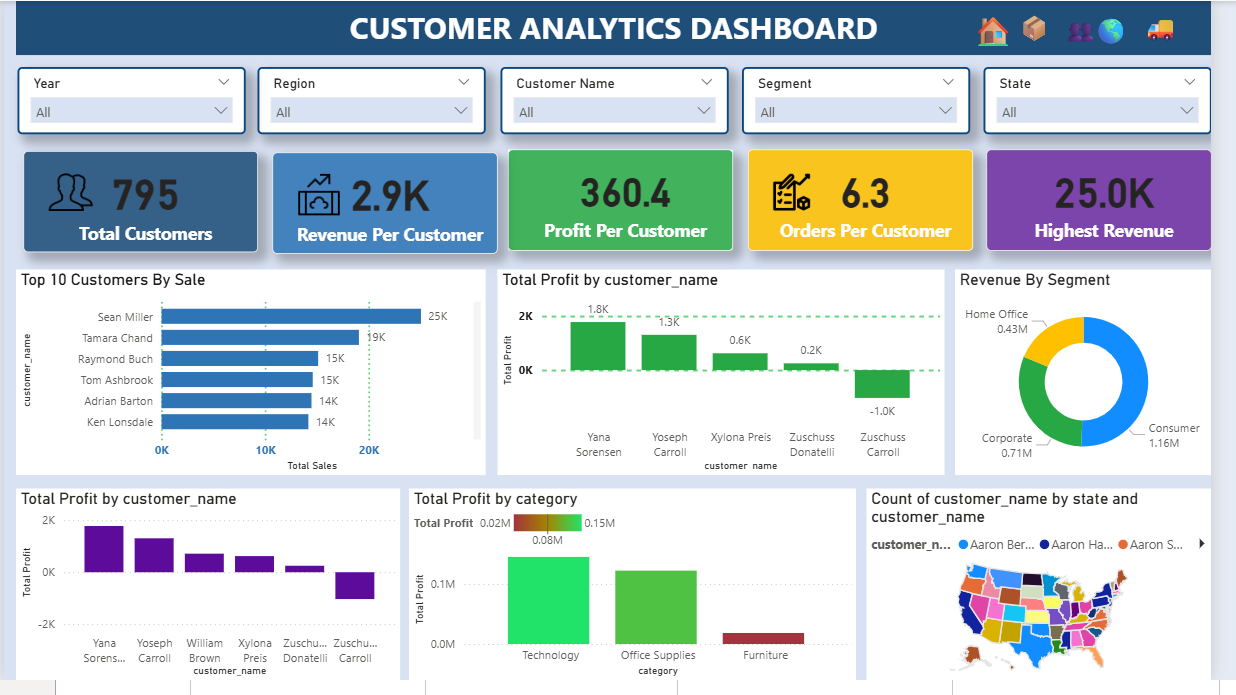

What the dashboard file says about the page in this screenshot:
{"tool":"powerbi","page":{"name":"CUSTOMER ANALYTICS","canvas":[1280,720],"ordinal":2},"visuals":[{"type":"textbox","box":[12.7,0,1267.7,57.3],"z":0},{"type":"actionButton","box":[1022.8,4.8,48.4,47.7],"z":0,"group":"g7"},{"type":"card","fields":{"Values":["Measures (2).Orders Per Customer"]},"box":[789.4,157.5,238.8,107.1],"z":0,"group":"g4"},{"type":"card","fields":{"Values":["Measures (2).Profit Per Customer"]},"box":[534.8,157.6,238.8,107.1],"z":0,"group":"g3"},{"type":"card","fields":{"Values":["Measures (2).Highest Customer Revenue"]},"box":[1041.6,158.1,238.8,107.1],"z":0,"group":"g5"},{"type":"card","fields":{"Values":["Measures (2).Total Customers"]},"box":[20.7,159.3,248.4,107.1],"z":0,"group":"g2"},{"type":"card","fields":{"Values":["Measures (2).Revenue Per Customer"]},"box":[285.1,160.1,238.8,107.1],"z":0,"group":"g6"},{"type":"actionButton","box":[1071.2,3.2,48.4,47.7],"z":1000,"group":"g7"},{"type":"slicer","fields":{"Values":["fact_sales.region"]},"box":[268.8,70,241.8,71.6],"z":1000},{"type":"actionButton","box":[1119.5,6.4,49.9,44.5],"z":2000,"group":"g7"},{"type":"slicer","fields":{"Values":["dim_date.year"]},"box":[14.3,70,241.8,71.6],"z":2000},{"type":"actionButton","box":[1151.3,6.4,46.9,49.3],"z":3000,"group":"g7"},{"type":"slicer","fields":{"Values":["fact_sales.state"]},"box":[1038.7,70,241.8,71.6],"z":3000},{"type":"actionButton","box":[1204.2,3.2,62,47.7],"z":4000,"group":"g7"},{"type":"slicer","fields":{"Values":["dim_customer.segment"]},"box":[782.6,70,241.8,71.6],"z":4000},{"type":"slicer","fields":{"Values":["dim_customer.customer_name"]},"box":[526.5,70,241.8,71.6],"z":5000},{"type":"group","id":"g1","title":"Group 2","box":[20.7,157.5,1259.8,109.8],"z":6000},{"type":"group","id":"g2","title":"Group 1","box":[20.7,159.3,248.4,107.1],"z":6000,"group":"g1"},{"type":"group","id":"g3","title":"Group 1","box":[534.8,157.6,238.8,107.1],"z":7000,"group":"g1"},{"type":"image","box":[299,175,70,60.4],"z":7000},{"type":"group","id":"g4","title":"Group 1","box":[789.4,157.5,238.8,107.1],"z":8000,"group":"g1"},{"type":"image","box":[33.4,173.4,74.8,57.3],"z":8000},{"type":"image","box":[802.2,175.3,66.9,55.1],"z":8001,"group":"g4"},{"type":"group","id":"g5","title":"Group 1","box":[1041.6,158.1,238.8,107.1],"z":9000,"group":"g1"},{"type":"barChart","title":"Top 10 Customers By Sale","fields":{"Y":["Measures (2).Total Sales"],"Category":["dim_customer.customer_name"]},"box":[12.7,284.7,497.9,217.9],"z":9000},{"type":"columnChart","fields":{"Y":["Measures (2).Total Profit"],"Category":["dim_customer.customer_name"]},"box":[523.3,284.7,474,217.9],"z":10000},{"type":"group","id":"g6","title":"Group 1","box":[285.1,160.1,238.8,107.1],"z":11000,"group":"g1"},{"type":"clusteredColumnChart","fields":{"Category":["dim_customer.customer_name"],"Y":["Measures (2).Total Profit"]},"box":[12.7,516.9,407.2,203.6],"z":11000},{"type":"clusteredColumnChart","fields":{"Y":["Measures (2).Total Profit"],"Category":["dim_product.category"]},"box":[429.5,516.9,474,203.6],"z":12000},{"type":"donutChart","title":"Revenue By Segment","fields":{"Category":["dim_customer.segment"],"Y":["Measures (2).Total Sales"]},"box":[1008.4,284.7,272,217.9],"z":13000},{"type":"shapeMap","fields":{"Series":["dim_customer.customer_name"],"Value":["CountNonNull(dim_customer.customer_name)"],"Category":["fact_sales.state"]},"box":[914.6,516.9,365.8,203.6],"z":14000},{"type":"group","id":"g7","title":"Group 3","box":[1022.8,3.2,243.4,52.5],"z":14006}]}

Visuals, with their boxes in screenshot pixels (x1, y1, x2, y2), scaled from the page's 1280x720 canvas onto the 1236x695 screenshot:
textbox: <box>12,0,1235,55</box>
actionButton: <box>988,5,1034,51</box>
card - Measures (2).Orders Per Customer: <box>762,152,993,255</box>
card - Measures (2).Profit Per Customer: <box>516,152,747,256</box>
card - Measures (2).Highest Customer Revenue: <box>1006,153,1235,256</box>
card - Measures (2).Total Customers: <box>20,154,260,257</box>
card - Measures (2).Revenue Per Customer: <box>275,155,506,258</box>
actionButton: <box>1034,3,1081,49</box>
slicer - fact_sales.region: <box>260,68,493,137</box>
actionButton: <box>1081,6,1129,49</box>
slicer - dim_date.year: <box>14,68,247,137</box>
actionButton: <box>1112,6,1157,54</box>
slicer - fact_sales.state: <box>1003,68,1235,137</box>
actionButton: <box>1163,3,1223,49</box>
slicer - dim_customer.segment: <box>756,68,989,137</box>
slicer - dim_customer.customer_name: <box>508,68,742,137</box>
"Group 2" group: <box>20,152,1235,258</box>
"Group 1" group: <box>20,154,260,257</box>
"Group 1" group: <box>516,152,747,256</box>
image: <box>289,169,356,227</box>
"Group 1" group: <box>762,152,993,255</box>
image: <box>32,167,104,223</box>
image: <box>775,169,839,222</box>
"Group 1" group: <box>1006,153,1235,256</box>
"Top 10 Customers By Sale" barChart: <box>12,275,493,485</box>
columnChart - Measures (2).Total Profit x dim_customer.customer_name: <box>505,275,963,485</box>
"Group 1" group: <box>275,155,506,258</box>
clusteredColumnChart - dim_customer.customer_name x Measures (2).Total Profit: <box>12,499,405,694</box>
clusteredColumnChart - Measures (2).Total Profit x dim_product.category: <box>415,499,872,694</box>
"Revenue By Segment" donutChart: <box>974,275,1235,485</box>
shapeMap - dim_customer.customer_name x CountNonNull(dim_customer.customer_name): <box>883,499,1235,694</box>
"Group 3" group: <box>988,3,1223,54</box>
